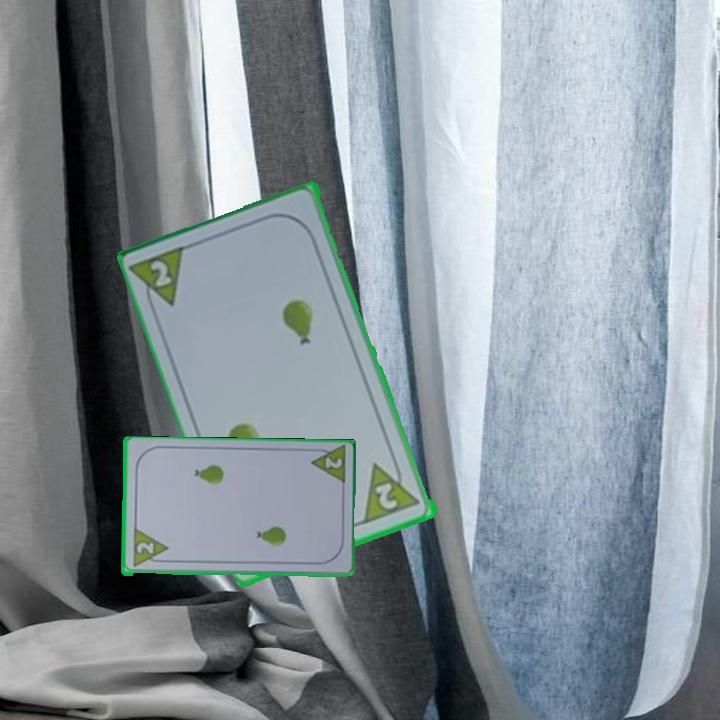2p: (372, 479, 402, 513), (147, 257, 176, 291), (133, 539, 156, 558), (321, 454, 345, 472)
